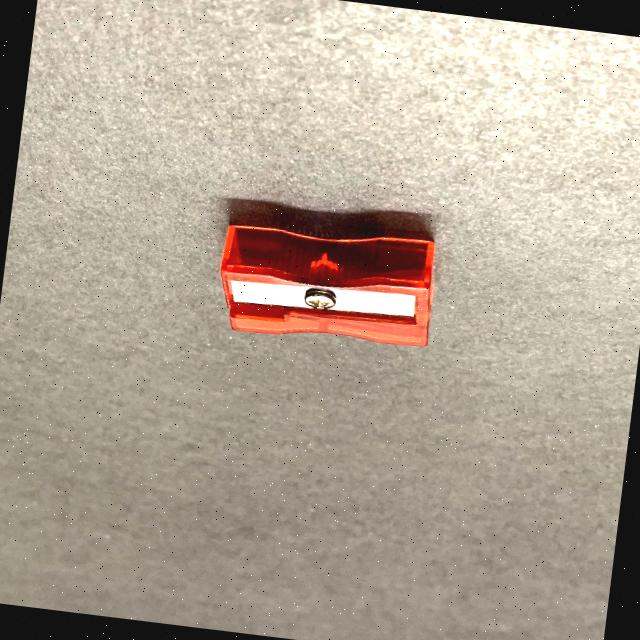Sharpner: (155, 193, 470, 391)
